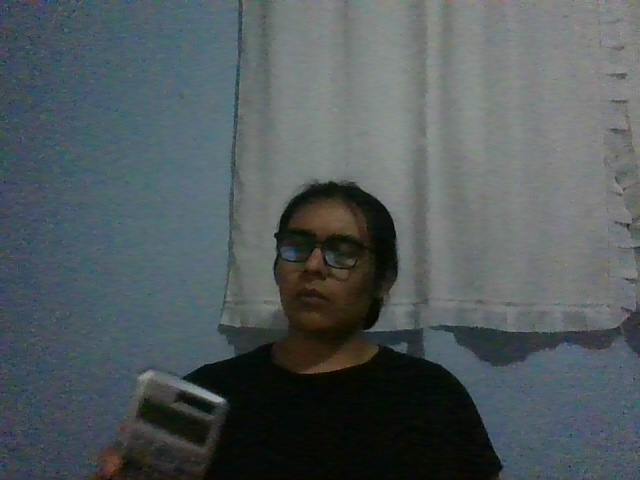calculadora: (120, 369, 229, 480)
